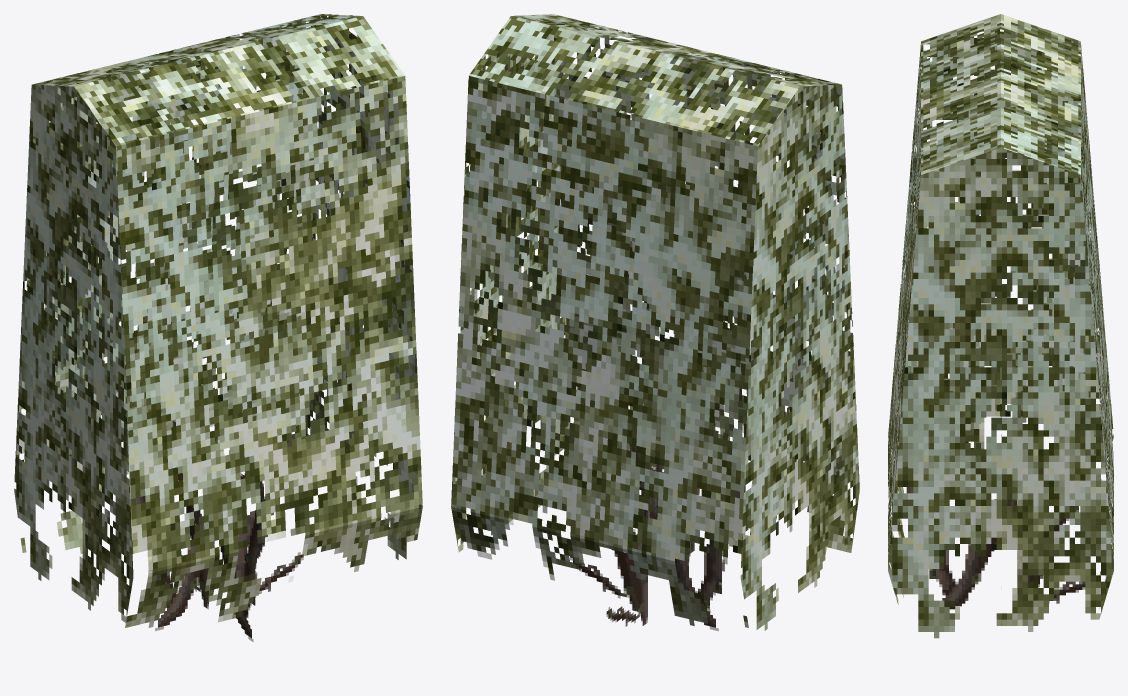
Rendered from bush_tall_half_roots_winter.glb.
The picture shows the model from 3 angles, left to right: view 1: azimuth 30°, elevation 25°; view 2: azimuth 150°, elevation 25°; view 3: azimuth 270°, elevation 25°; orthographic projection. The views are drawn at different scales.
Visible parts, largest first — view 1: bush_tall_half_roots_winter; view 2: bush_tall_half_roots_winter; view 3: bush_tall_half_roots_winter.
Boxes of the visible parts, box(x1,y1,x2,y2) form: bush_tall_half_roots_winter: box(14, 14, 422, 641); bush_tall_half_roots_winter: box(451, 14, 859, 630); bush_tall_half_roots_winter: box(888, 14, 1113, 638).
Size of the model in its own units: 1.01 by 1.88 by 0.7191.
2 materials, 2 textured.
